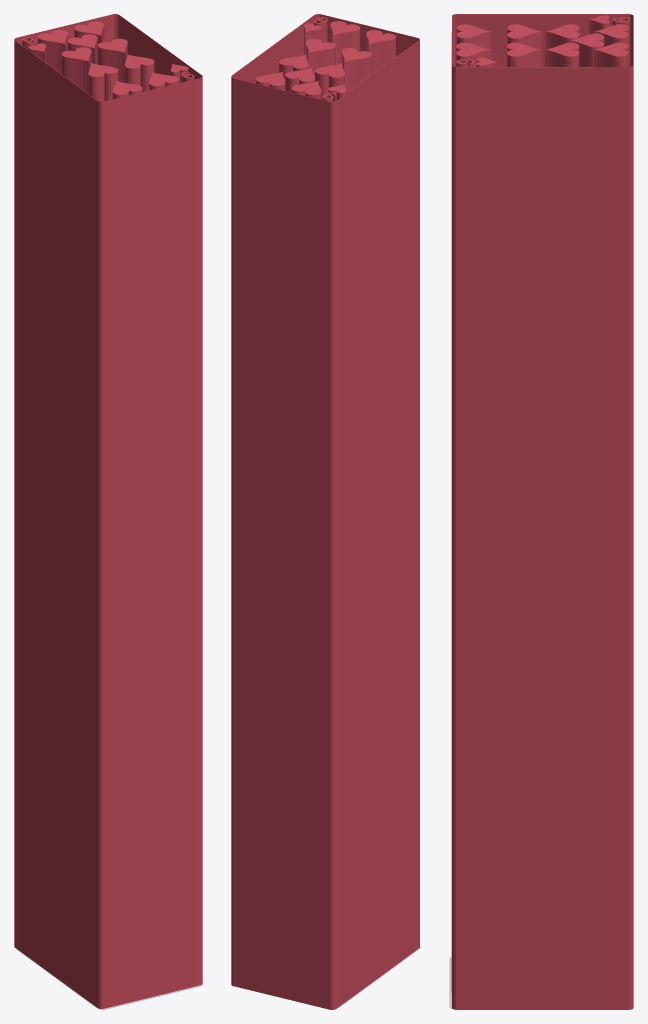
Rendered from 9_hearts.glb.
3 renders of one model, left to right at view 1: azimuth 30°, elevation 25°; view 2: azimuth 150°, elevation 25°; view 3: azimuth 270°, elevation 25°, orthographic. The views are drawn at different scales.
Visible parts, largest first — view 1: Mesh_Mesh_head_geo.001_lambert2SG.001; view 2: Mesh_Mesh_head_geo.001_lambert2SG.001; view 3: Mesh_Mesh_head_geo.001_lambert2SG.001.
Part boxes in pixels (box(x1,y1,x2,y2)): Mesh_Mesh_head_geo.001_lambert2SG.001: box(14, 14, 202, 1009); Mesh_Mesh_head_geo.001_lambert2SG.001: box(231, 14, 420, 1009); Mesh_Mesh_head_geo.001_lambert2SG.001: box(449, 14, 633, 1009).
Bounding box in the file's own units: 1.22 × 10 × 1.78.
